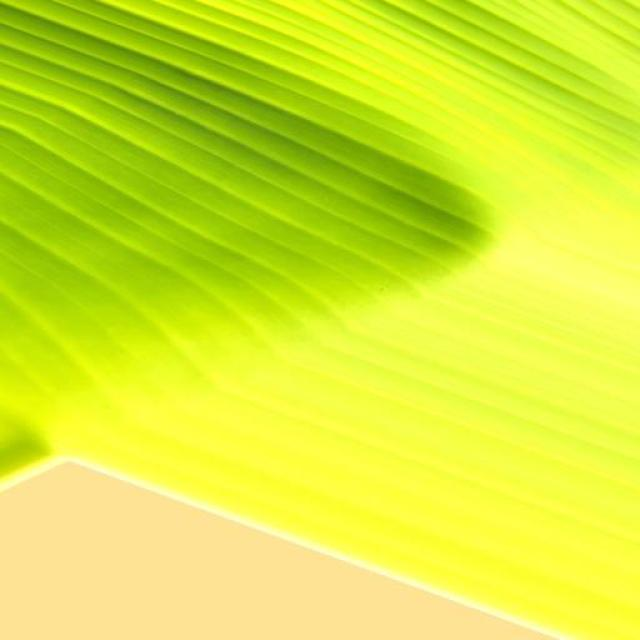Black_leaf_spot: (0, 0, 620, 507)
